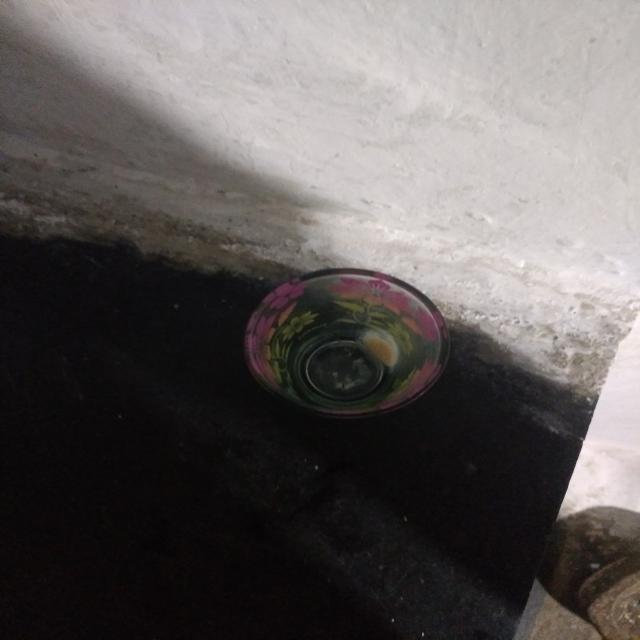Glass: (238, 263, 454, 422)
